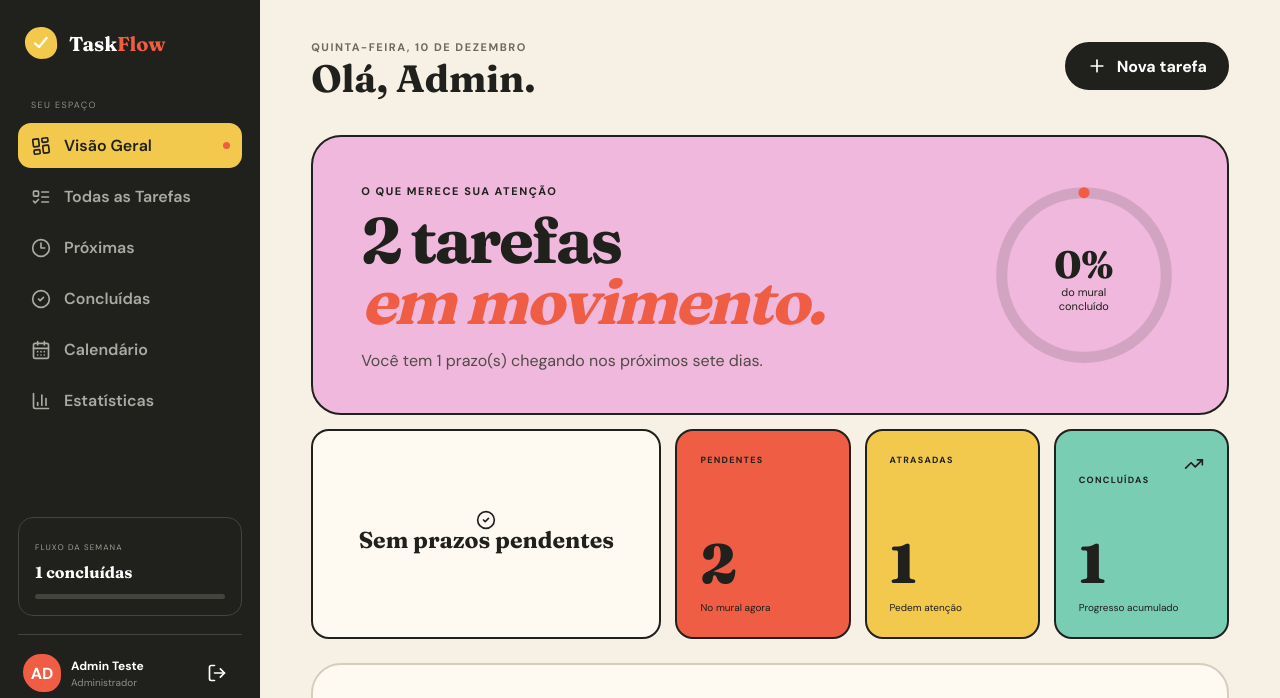
App tarefas e visualizações › calendário atravessa dezembro/janeiro e funciona vazio
Check: the text "Admin Teste" is shown, box x1=71 y1=658 x2=144 y2=674
Click the button "Calendário" at (130, 350), box x1=18 y1=327 x2=242 y2=372
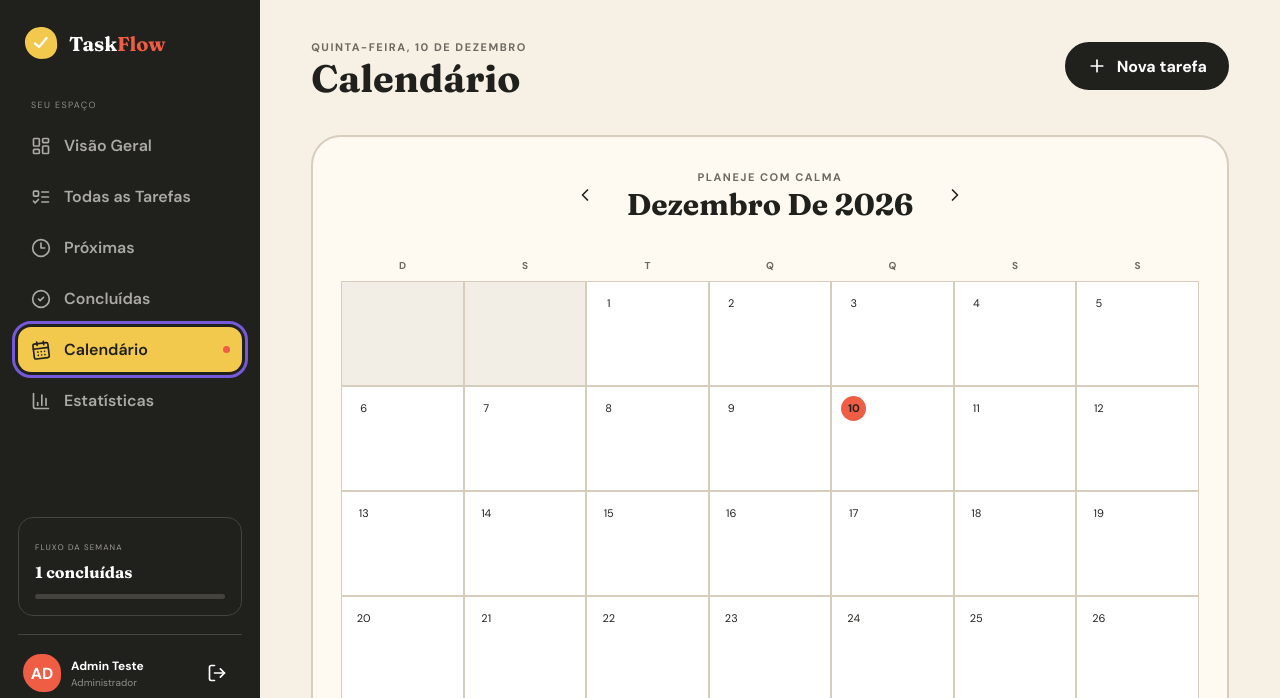
Click the button named "Próximo mês" at (955, 195), box x1=935 y1=175 x2=975 y2=215
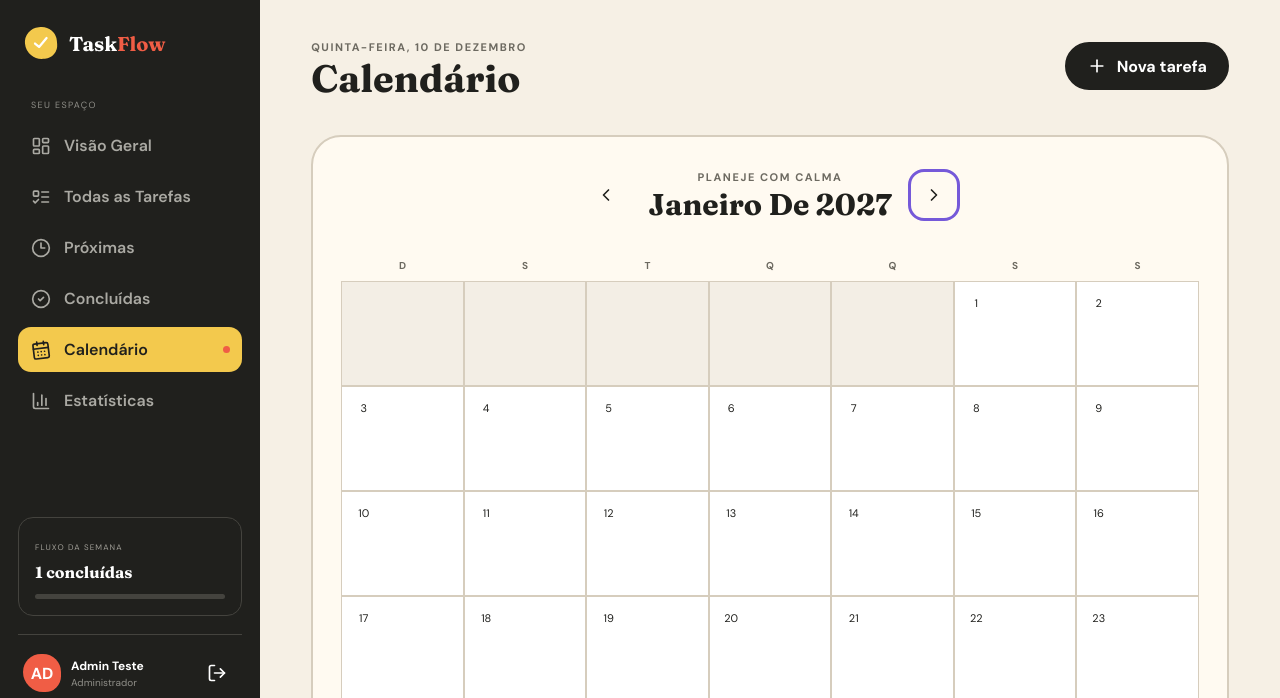
Check: the heading "janeiro de 2027" is shown, box x1=648 y1=191 x2=892 y2=220
Click the button named "Mês anterior" at (606, 195), box x1=586 y1=175 x2=626 y2=215
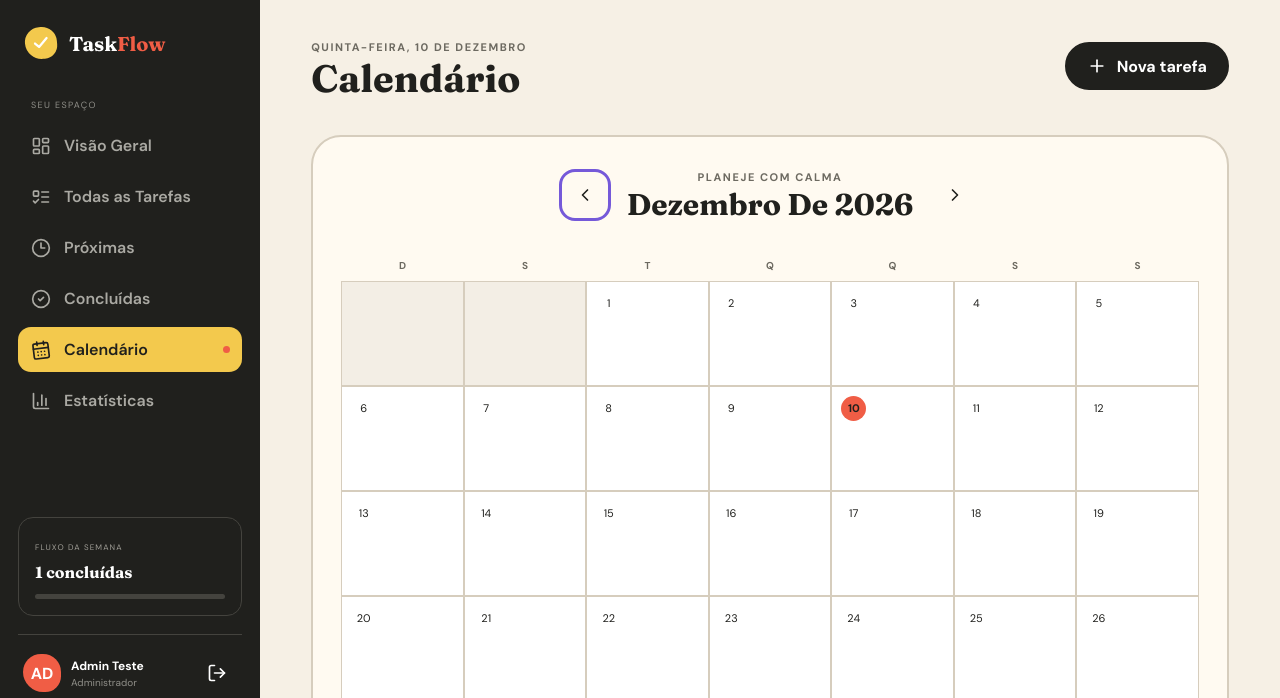
Click the button named "Mês anterior" at (585, 195), box x1=565 y1=175 x2=605 y2=215
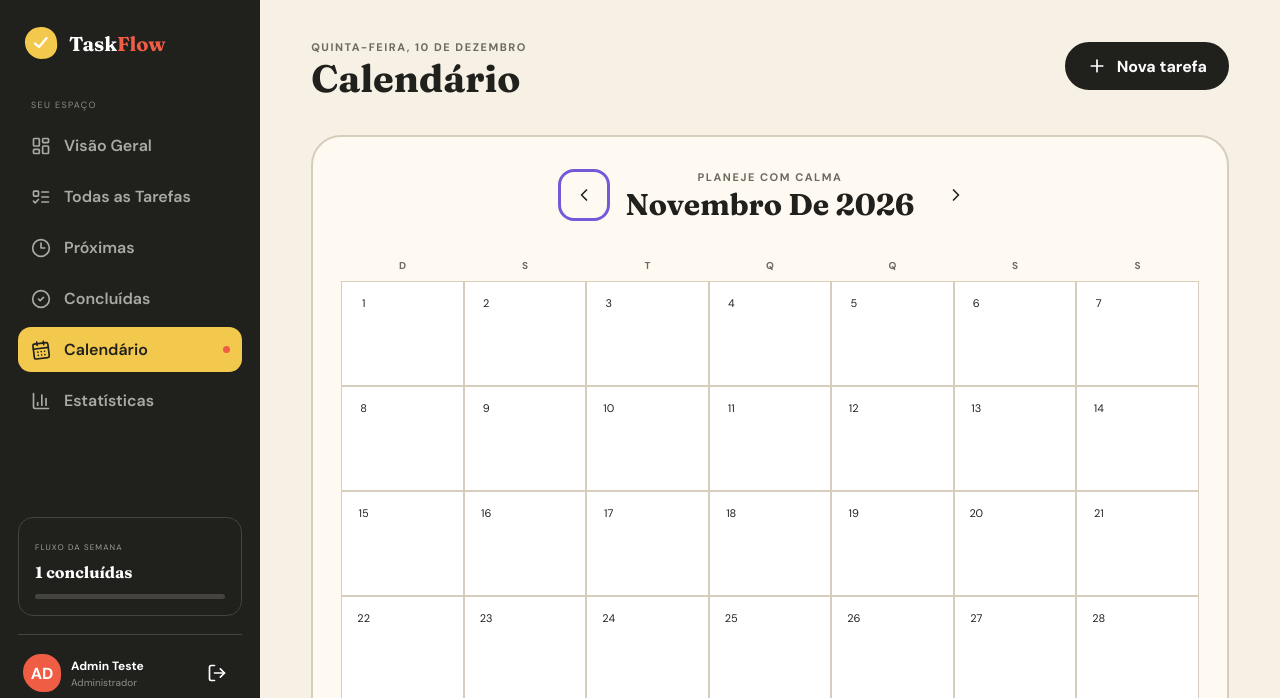
Check: the heading "novembro de 2026" is shown, box x1=626 y1=191 x2=914 y2=220
